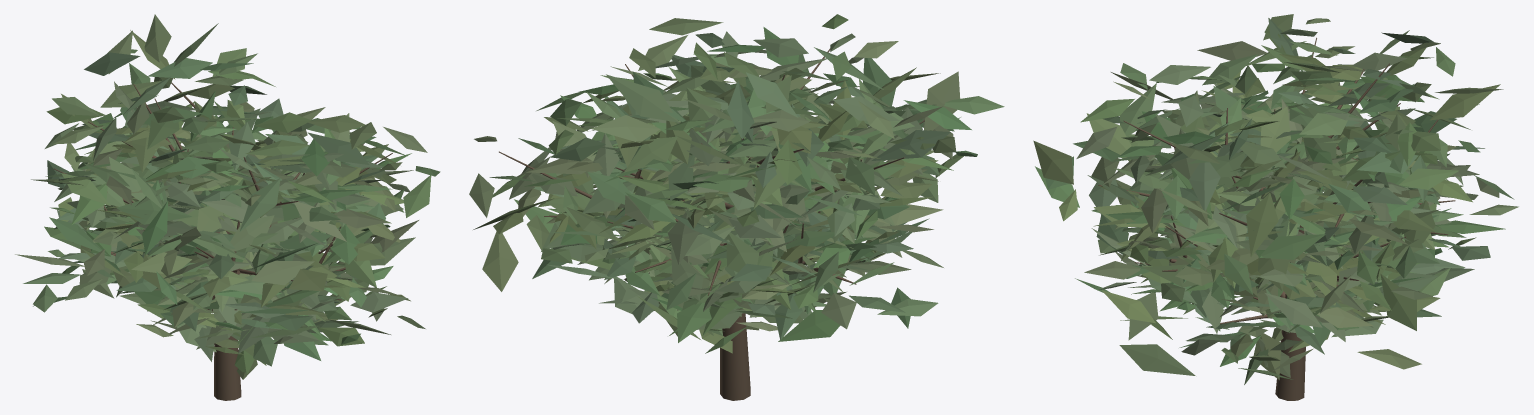
The model's file is Bush3.glb.
3 renders of one model, left to right at view 1: azimuth 30°, elevation 25°; view 2: azimuth 150°, elevation 25°; view 3: azimuth 270°, elevation 25°, orthographic. The views are drawn at different scales.
Bounding box in the file's own units: 2.02 × 1.5 × 1.95.
